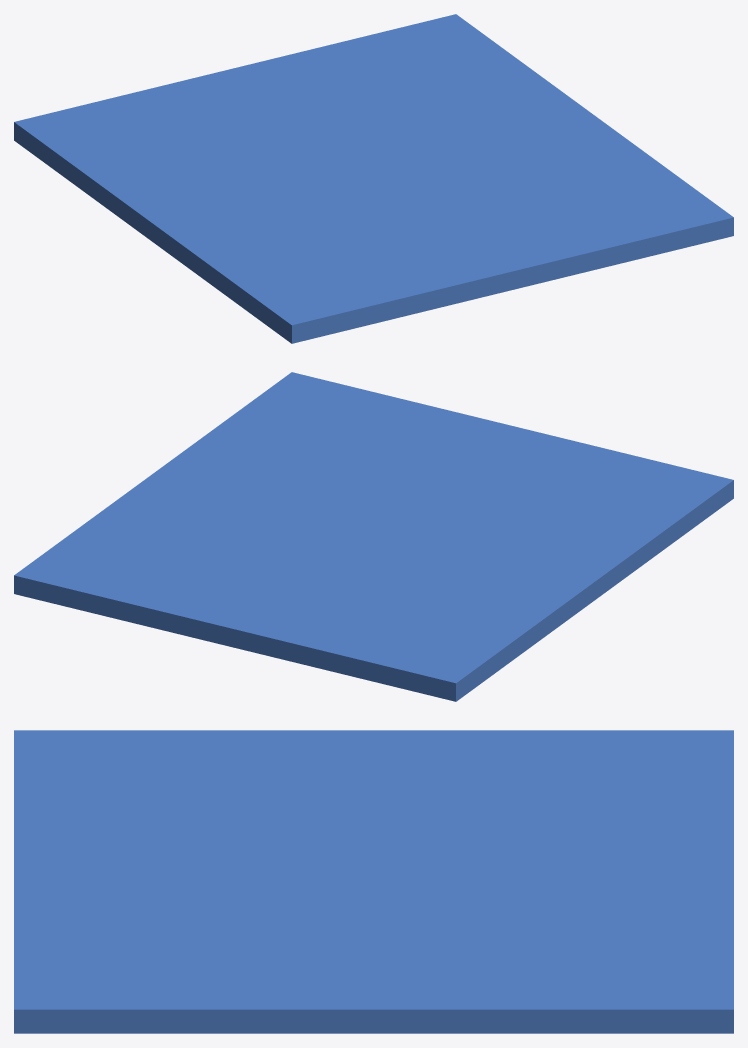
File: oled.glb
3 renders of one model, top to bottom at view 1: azimuth 30°, elevation 25°; view 2: azimuth 150°, elevation 25°; view 3: azimuth 270°, elevation 25°, orthographic. The views are drawn at different scales.
Visible parts, largest first — view 1: =>[0:1:1:4]; view 2: =>[0:1:1:4]; view 3: =>[0:1:1:4].
Part boxes in pixels (box(x1,y1,x2,y2)): =>[0:1:1:4]: box(14, 14, 733, 343); =>[0:1:1:4]: box(14, 372, 733, 701); =>[0:1:1:4]: box(14, 730, 733, 1033).
Size of the model in its own units: 0.0249 by 0.001 by 0.0271.
